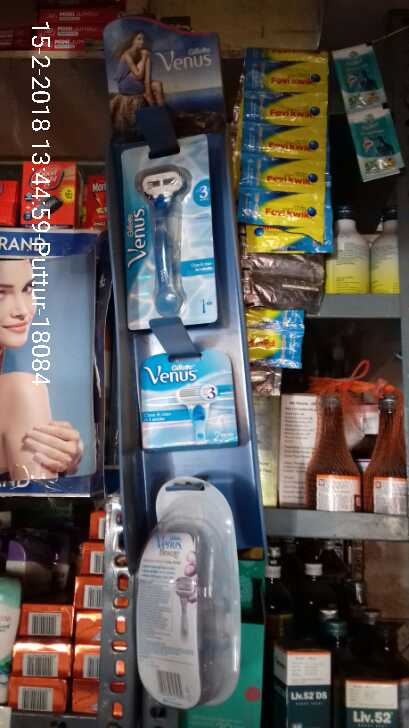venus: (117, 147, 231, 319), (135, 356, 241, 446)
